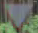Give way: (0, 0, 35, 32)
